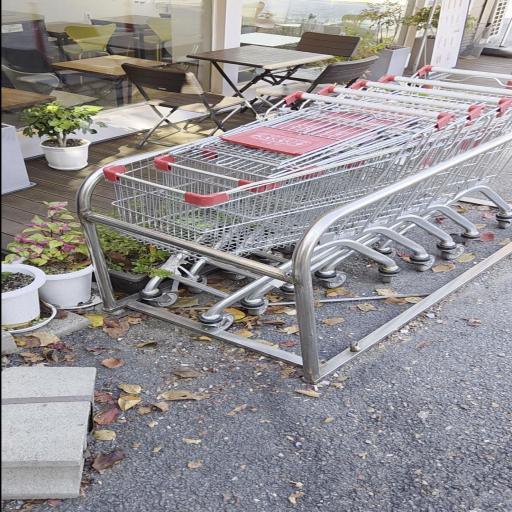combined_cart: (83, 62, 512, 385)
